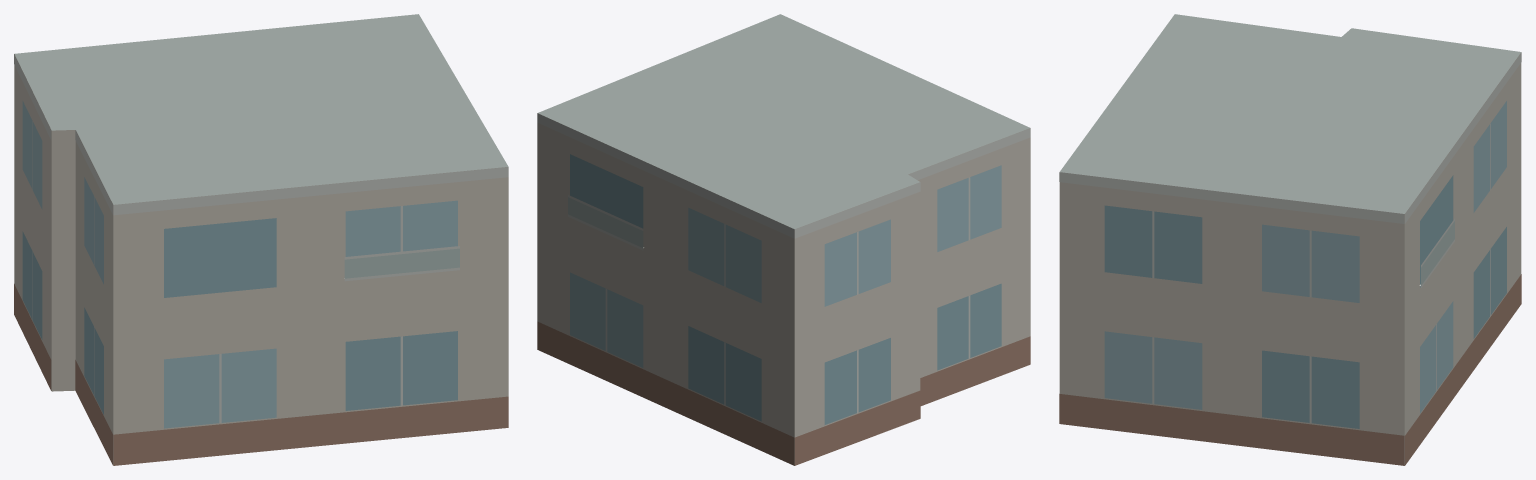
The model's file is survey-upis-32605626.glb.
The picture shows the model from 3 angles, left to right: view 1: azimuth 30°, elevation 25°; view 2: azimuth 150°, elevation 25°; view 3: azimuth 270°, elevation 25°; orthographic projection. The views are drawn at different scales.
Visible parts, largest first — view 1: survey-upis-32605626.tmp; view 2: survey-upis-32605626.tmp; view 3: survey-upis-32605626.tmp.
Part boxes in pixels (box(x1,y1,x2,y2)): survey-upis-32605626.tmp: box(14, 14, 508, 465); survey-upis-32605626.tmp: box(537, 14, 1030, 465); survey-upis-32605626.tmp: box(1059, 14, 1521, 465).
Size of the model in its own units: 10.4 by 6.1 by 10.15.
